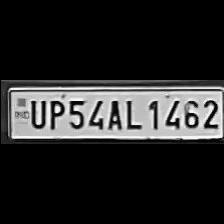1: (142, 96, 160, 130)
2: (200, 96, 218, 130)
4: (85, 96, 105, 130), (160, 96, 180, 130)
5: (65, 96, 85, 130)
6: (180, 96, 198, 130)
A: (103, 96, 123, 130)
L: (122, 96, 142, 130)
P: (44, 96, 64, 130)
U: (25, 97, 45, 129)
